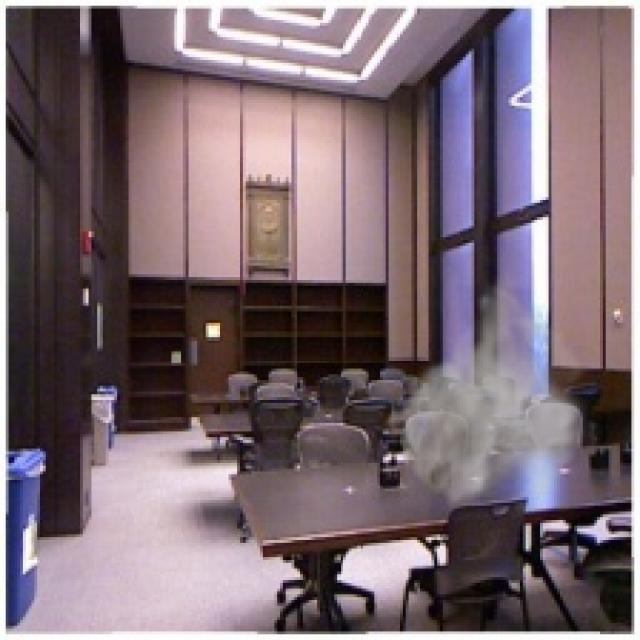Smoke: (383, 266, 591, 532)
